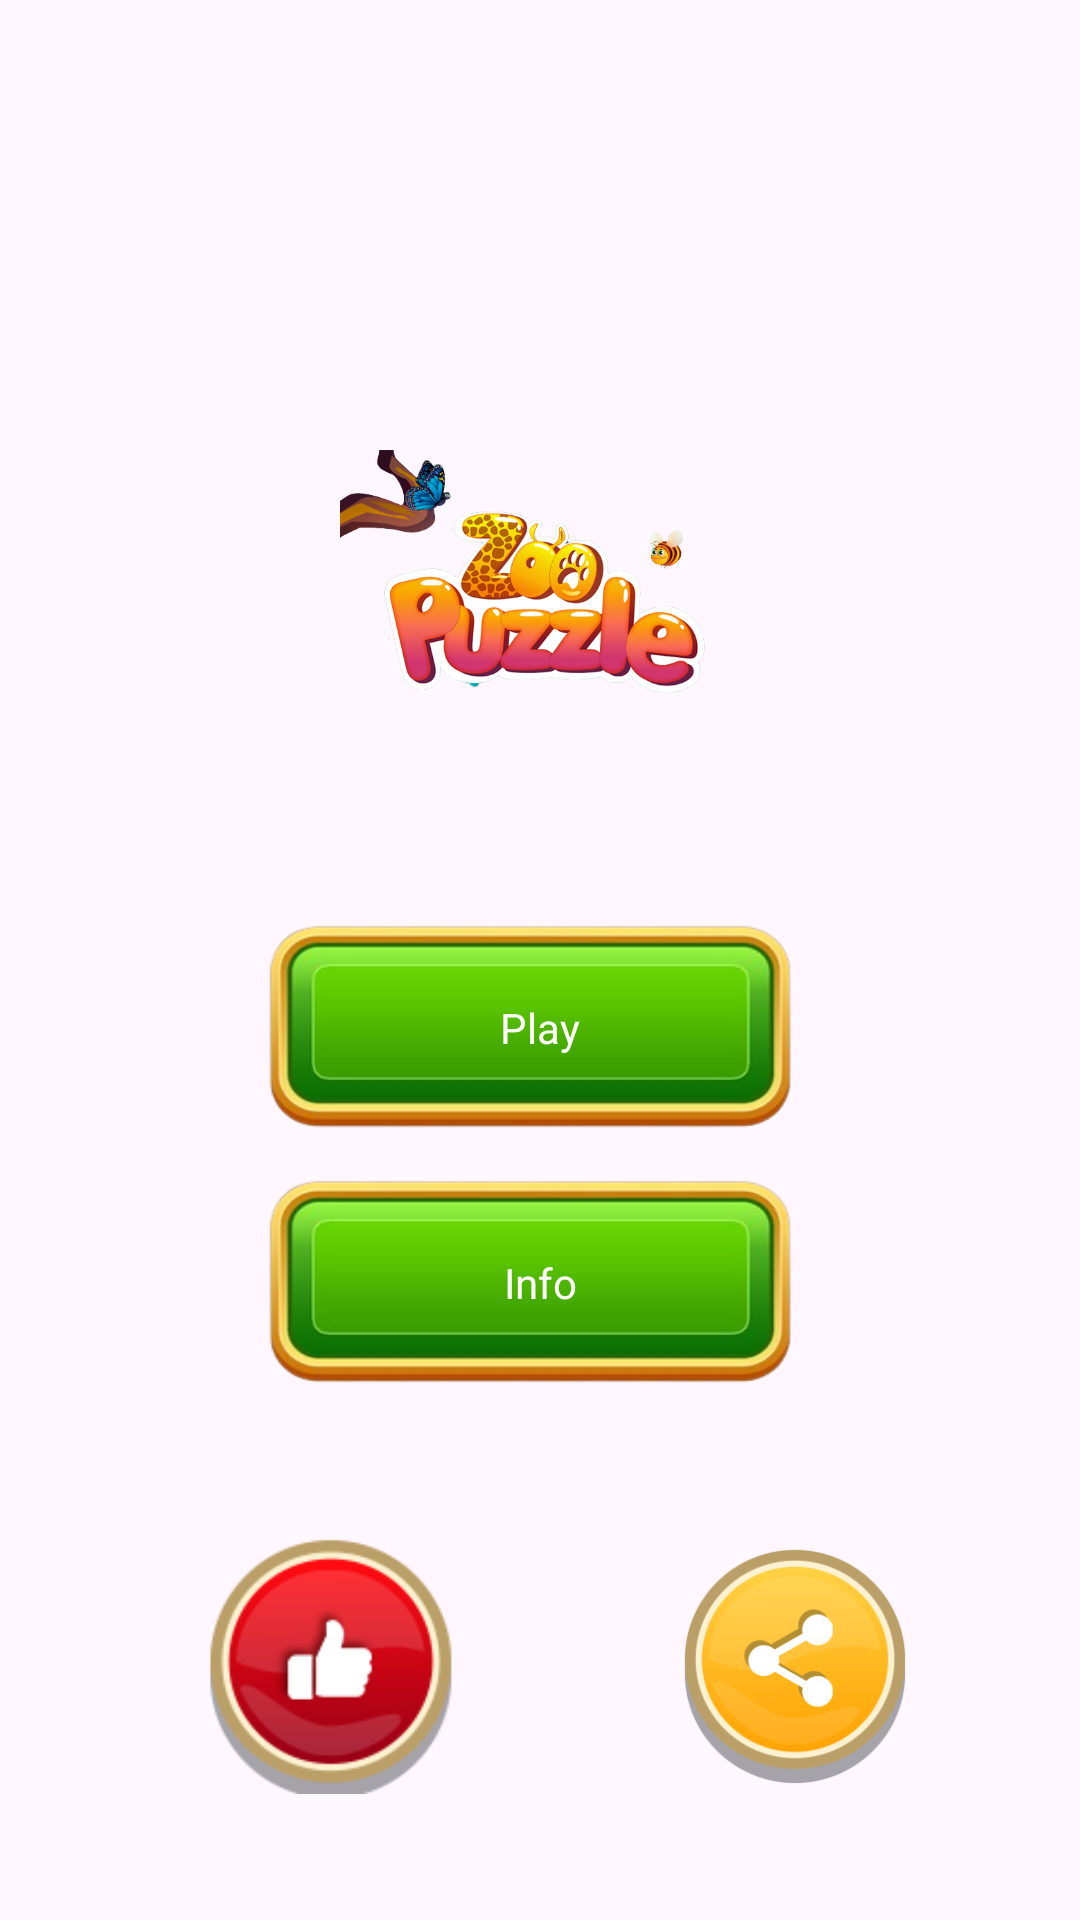

Icon bounding boxes for this 1080px×1920px phone screenshot, format [x1=x1, y1=y1, x2=x2, y2=y2]:
rate: [x1=210, y1=1540, x2=452, y2=1794]
share: [x1=685, y1=1550, x2=905, y2=1783]
